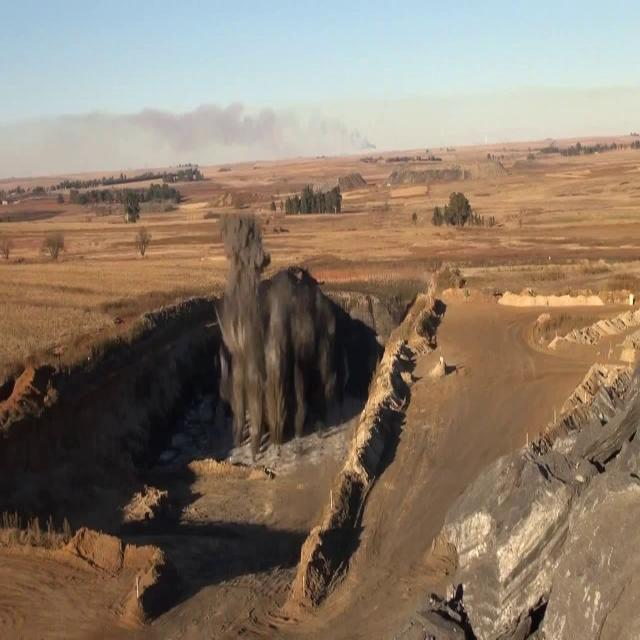explosion: (193, 158, 374, 526)
